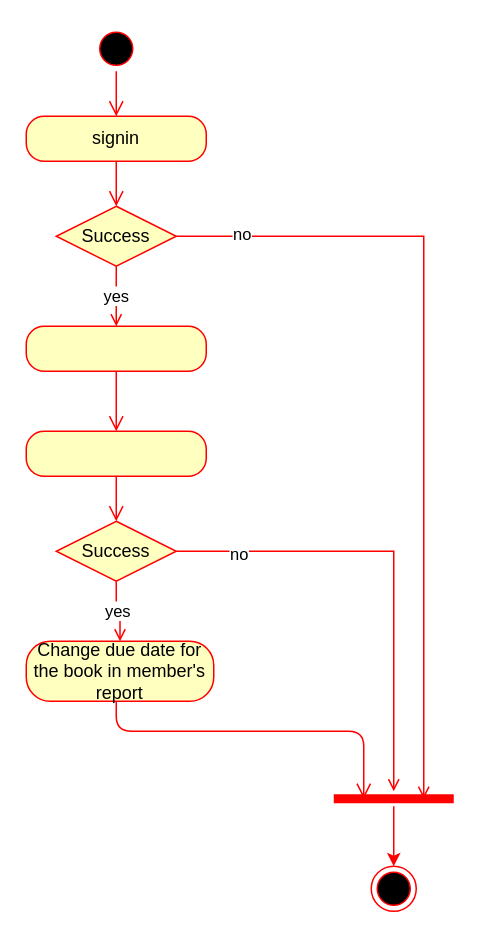
Some shapes in this 485 by 938 pixel diagram are drawn without their labels. The centre of each missing label's shape, as x and y in pixels:
"Choose renew for a book" belongs at [115,453].
"Choose view boorwed books" belongs at [115,348].
